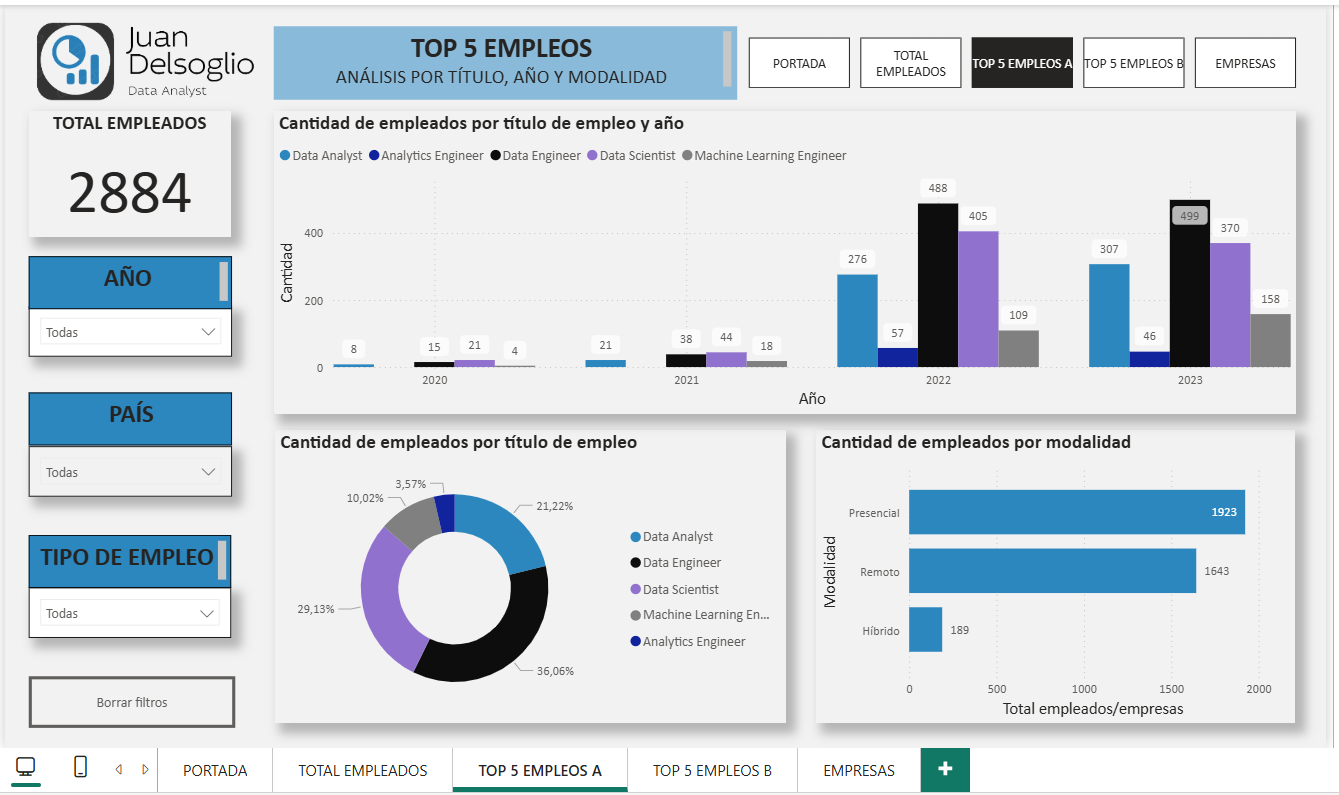

The page's visual inventory and layout, read from the dashboard file:
{"tool":"powerbi","page":{"name":"TOP 5 EMPLEOS A","canvas":[1280,720],"ordinal":2},"visuals":[{"type":"image","box":[15.7,10,243.7,92.7],"z":0},{"type":"pageNavigator","box":[719.8,31.4,530.2,49.9],"z":1000},{"type":"lineClusteredColumnComboChart","title":"Cantidad de empleados  por título de empleo y año","fields":{"Category":["_Calendario.Date.Variación.Jerarquía de fechas.Año","_Calendario.Date.Variación.Jerarquía de fechas.Trimestre","_Calendario.Date.Variación.Jerarquía de fechas.Mes","_Calendario.Date.Variación.Jerarquía de fechas.Día"],"Y":["_Medidas.Data Analyst","_Medidas.Analytics Engineer","_Medidas.Data Engineer","_Medidas.Data Scientist","_Medidas.Machine Learning Engineer"]},"box":[260,102.9,990,292.9],"z":2000},{"type":"donutChart","title":"Cantidad de empleados por título de empleo","fields":{"Y":["_Medidas.Data Analyst","_Medidas.Data Engineer","_Medidas.Data Scientist","_Medidas.Machine Learning Engineer","_Medidas.Analytics Engineer"]},"box":[261.4,411.4,494.3,284.3],"z":3000},{"type":"slicer","title":"Año","fields":{"Values":["EMPLEADOS.Ano_contratacion"]},"box":[22.9,291.4,197.1,49],"z":4000},{"type":"clusteredBarChart","title":"Cantidad de empleados por modalidad","fields":{"Y":["_Medidas.Total empleados/empresas"],"Category":["EMPLEADOS._Modalidad_empleo"]},"box":[785.7,411.4,464.3,284.3],"z":5000},{"type":"slicer","title":"Tipo de empleo","fields":{"Values":["TIPO EMPLEO.tipo_empleo"]},"box":[22.9,564.3,195.7,48.6],"z":6000},{"type":"slicer","title":"País de residencia","fields":{"Values":["PAIS RESIDENCIA.pais_residencia_empleado"]},"box":[22.9,427.1,197.1,48.6],"z":7000},{"type":"textbox","box":[260,20,448.6,71.4],"z":8000},{"type":"textbox","box":[22.9,242.9,197.1,51],"z":9000},{"type":"textbox","box":[22.9,512.9,195.7,51.4],"z":10000},{"type":"textbox","box":[22.9,375.7,197.1,51.4],"z":11000},{"type":"actionButton","title":"ASDASDASD","box":[22.9,650,200,50],"z":12000},{"type":"card","title":"TOTAL EMPLEADOS","fields":{"Values":["_Medidas.Total TOP 5"]},"box":[22.9,102.9,195.7,121.4],"z":13000}]}

Visuals, with their boxes on the page's 1280x720 design canvas (x1, y1, x2, y2). These are canvas units, not pixel positions in the 1339x795 screenshot, which may show the page scaled, cropped or inside an application window:
image: (16,10,259,103)
pageNavigator: (720,31,1250,81)
"Cantidad de empleados  por título de empleo y año" lineClusteredColumnComboChart: (260,103,1250,396)
"Cantidad de empleados por título de empleo" donutChart: (261,411,756,696)
"Año" slicer: (23,291,220,340)
"Cantidad de empleados por modalidad" clusteredBarChart: (786,411,1250,696)
"Tipo de empleo" slicer: (23,564,219,613)
"País de residencia" slicer: (23,427,220,476)
textbox: (260,20,709,91)
textbox: (23,243,220,294)
textbox: (23,513,219,564)
textbox: (23,376,220,427)
"ASDASDASD" actionButton: (23,650,223,700)
"TOTAL EMPLEADOS" card: (23,103,219,224)
